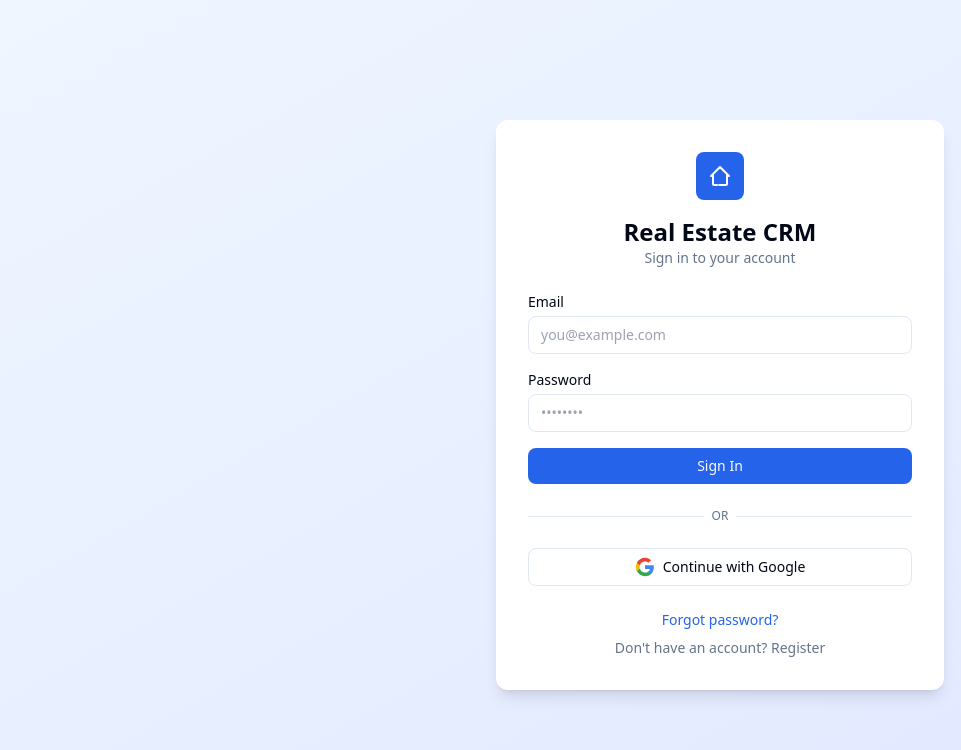
Test: LoginPage › shows error on failed login
Step 1. Type "test@example.com" into the field with placeholder "you@example.com" → {"x": 720, "y": 335}, box [528, 316, 912, 354]
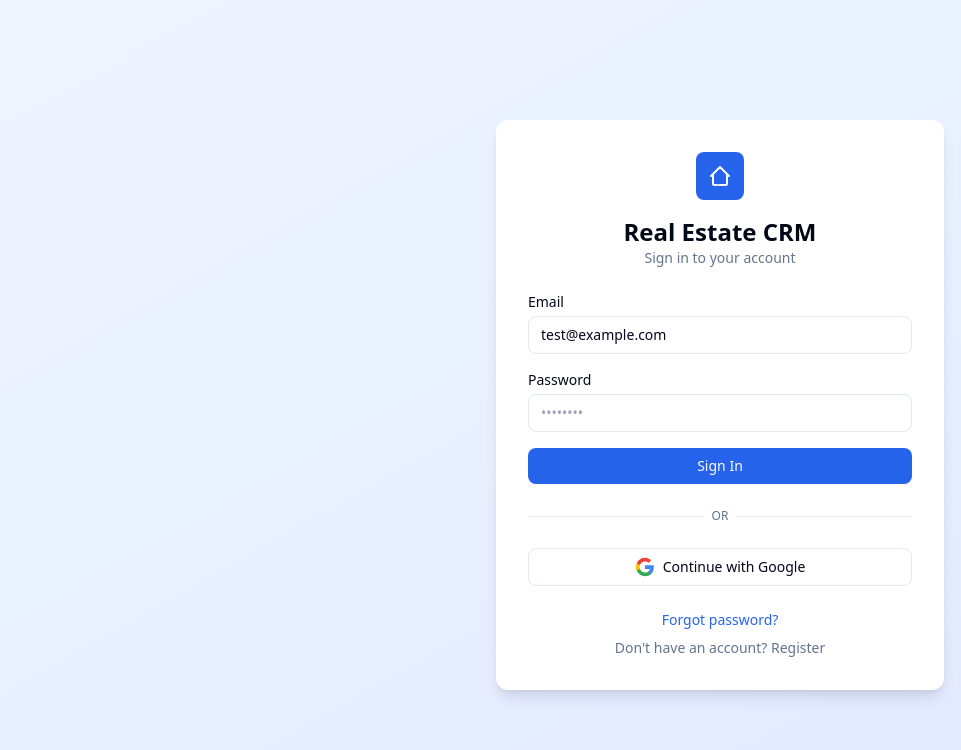
Step 2. Type "wrong" into the password field with placeholder "••••••••" → {"x": 720, "y": 413}, box [528, 394, 912, 432]
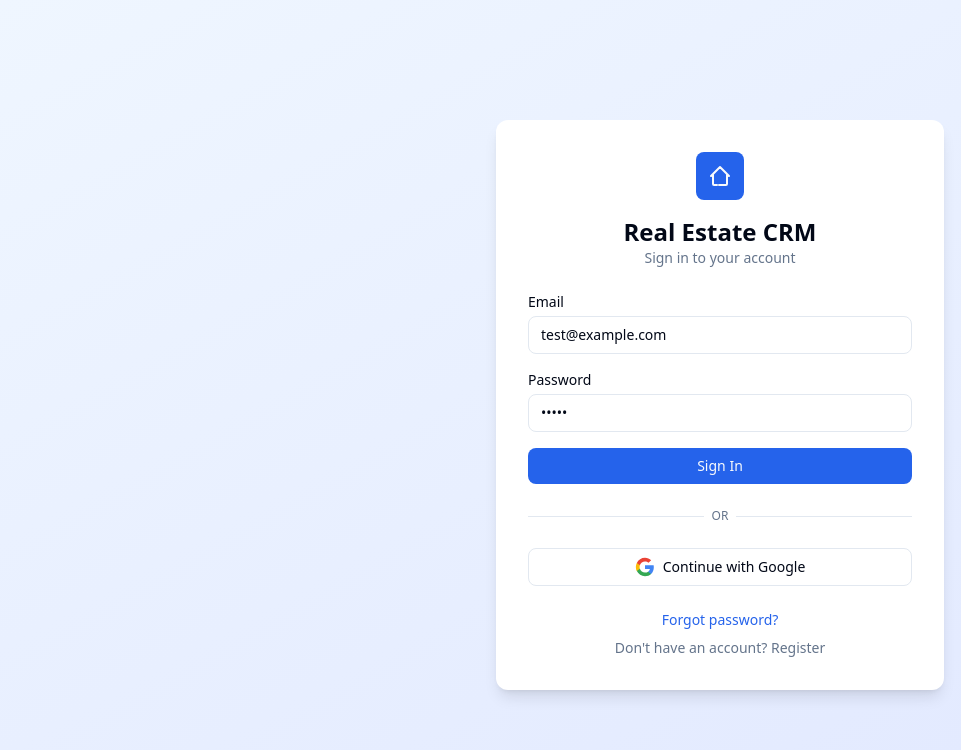
Step 3. Click the button "Sign In" → {"x": 720, "y": 466}, box [528, 448, 912, 484]
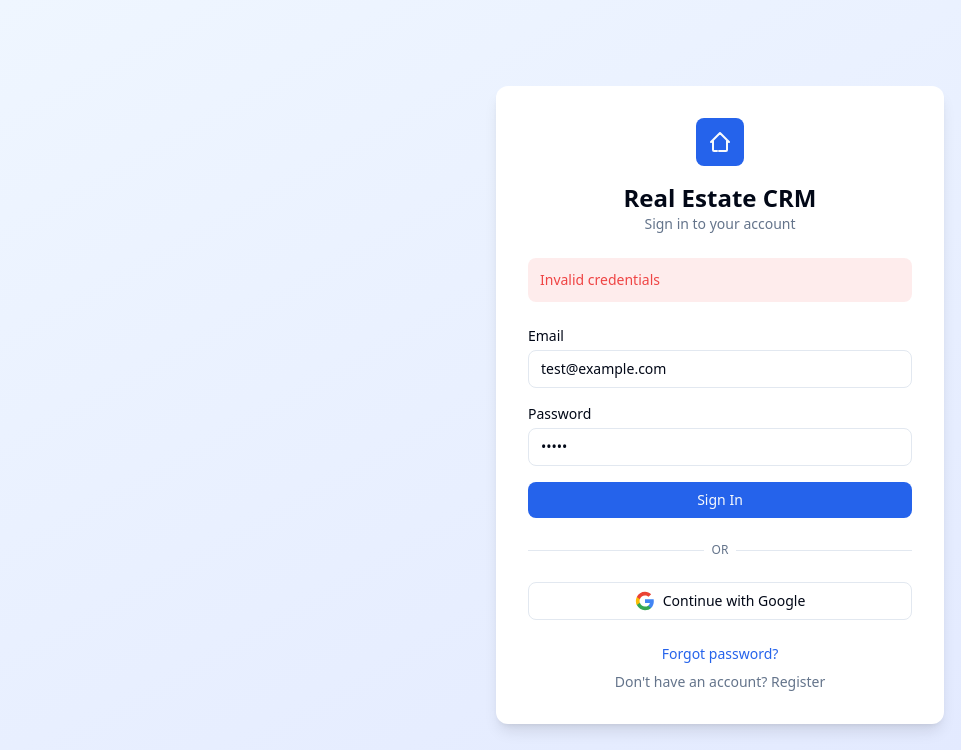
Expected: the text "Invalid credentials" is shown, [528, 258, 912, 302]
